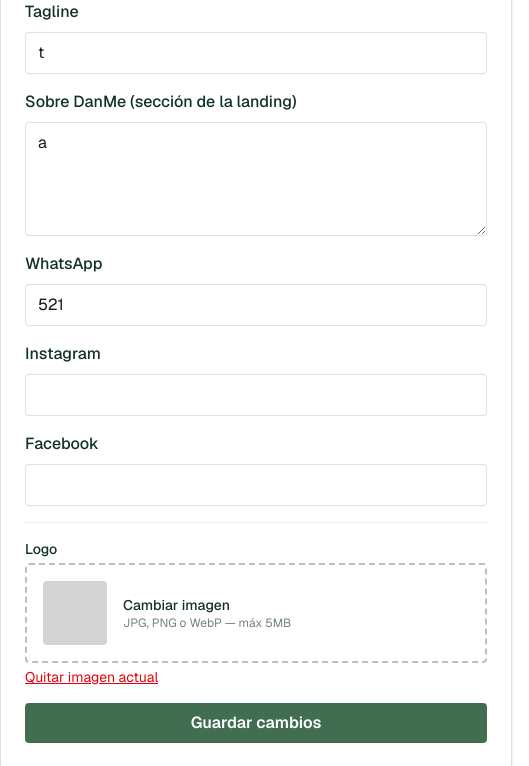
Scenario: SettingsForm › guardar con éxito → mensaje de éxito
(page scrolled)
Click the button "Guardar cambios". click: (256, 723)
box: x1=25 y1=703 x2=487 y2=743
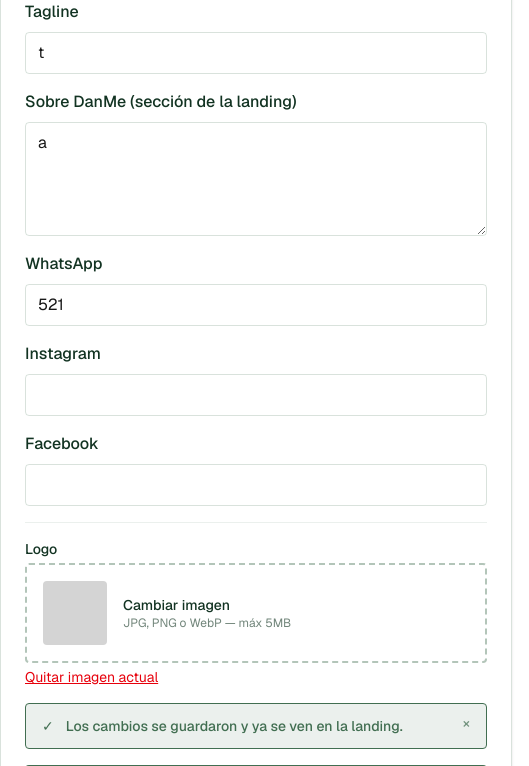
Now the message shows "se guardaron", box x1=66 y1=717 x2=403 y2=735
